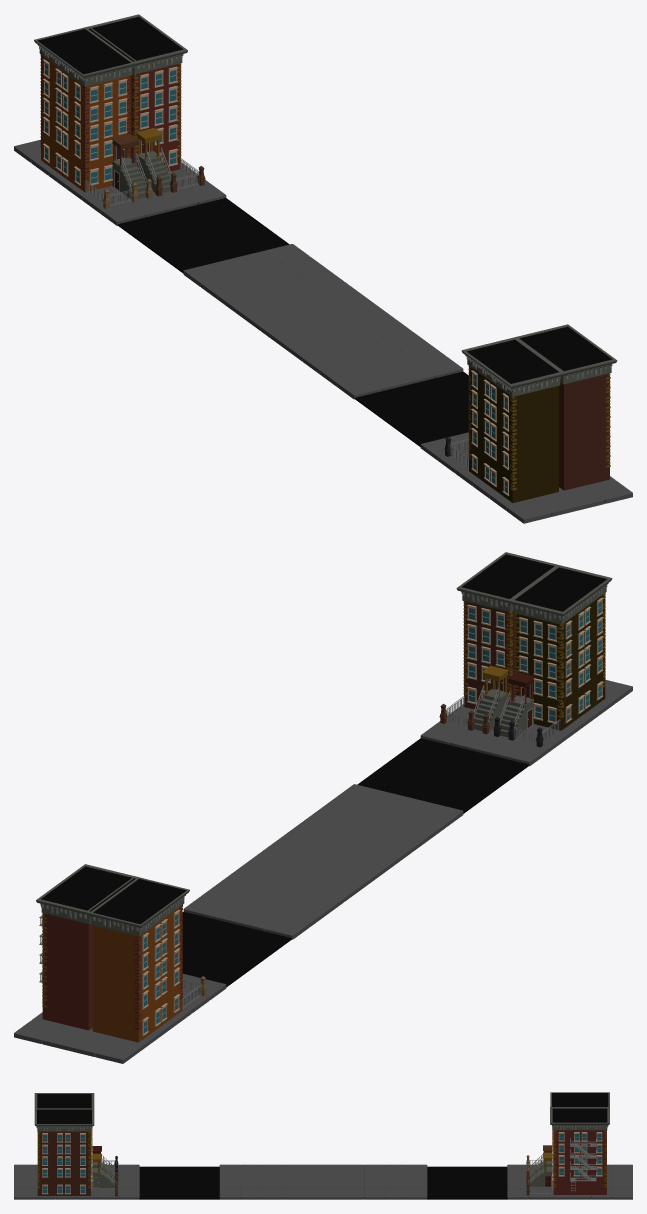
File: Empty_Top.fbx
3 renders of one model, top to bottom at view 1: azimuth 30°, elevation 25°; view 2: azimuth 150°, elevation 25°; view 3: azimuth 270°, elevation 25°, orthographic. The views are drawn at different scales.
Visible parts, largest first — view 1: Cube.7313, Cube.604, Cube.7183, Cube.878, Cube.606, Cube.3776, Cube.3773, Cube.607, Cube.609, Cube.3777, Cube.3772, Cube.605 (+14 smaller); view 2: Cube.878, Cube.604, Cube.992, Cube.3776, Cube.7313, Cube.606, Cube.3773, Cube.3775, Cube.3777, Cube.609, Cube.3772, Cube.605 (+14 smaller); view 3: Cube.7183, Cube.992, Cube.3776, Cube.606, Cube.604, Cube.3773, Cube.608, Cube.3775, Cube.607, Cube.3774, Cube.3777, Cube.609 (+12 smaller).
Boxes of the visible parts, left/top/right/bottom form: Cube.7313: left=469, top=367, right=558, bottom=502; Cube.604: left=183, top=257, right=341, bottom=349; Cube.7183: left=559, top=373, right=609, bottom=490; Cube.878: left=41, top=56, right=130, bottom=192; Cube.606: left=238, top=244, right=394, bottom=331; Cube.3776: left=307, top=293, right=463, bottom=384; Cube.3773: left=251, top=307, right=409, bottom=399; Cube.607: left=171, top=198, right=289, bottom=257; Cube.609: left=118, top=211, right=233, bottom=273; Cube.3777: left=355, top=385, right=468, bottom=446; Cube.3772: left=420, top=432, right=579, bottom=523; Cube.605: left=14, top=139, right=172, bottom=225; Cube.878: left=92, top=907, right=182, bottom=1042; Cube.604: left=237, top=847, right=395, bottom=939; Cube.992: left=42, top=913, right=92, bottom=1030; Cube.3776: left=252, top=784, right=408, bottom=871; Cube.7313: left=515, top=595, right=605, bottom=730; Cube.606: left=183, top=834, right=339, bottom=924; Cube.3773: left=305, top=797, right=463, bottom=889; Cube.3775: left=357, top=738, right=475, bottom=797; Cube.3777: left=413, top=751, right=528, bottom=813; Cube.609: left=182, top=925, right=291, bottom=987; Cube.3772: left=474, top=680, right=632, bottom=766; Cube.605: left=67, top=973, right=226, bottom=1063; Cube.7183: left=37, top=1131, right=90, bottom=1195; Cube.992: left=553, top=1130, right=606, bottom=1194; Cube.3776: left=219, top=1181, right=344, bottom=1199; Cube.606: left=302, top=1181, right=427, bottom=1199; Cube.604: left=302, top=1164, right=427, bottom=1180; Cube.3773: left=219, top=1164, right=344, bottom=1180; Cube.608: left=507, top=1181, right=632, bottom=1199; Cube.3775: left=139, top=1182, right=219, bottom=1199; Cube.607: left=427, top=1182, right=507, bottom=1199; Cube.3774: left=14, top=1181, right=139, bottom=1199; Cube.3777: left=139, top=1166, right=219, bottom=1181; Cube.609: left=427, top=1166, right=507, bottom=1181.
Size of the model in its own units: 3127 by 3199 by 23814.
